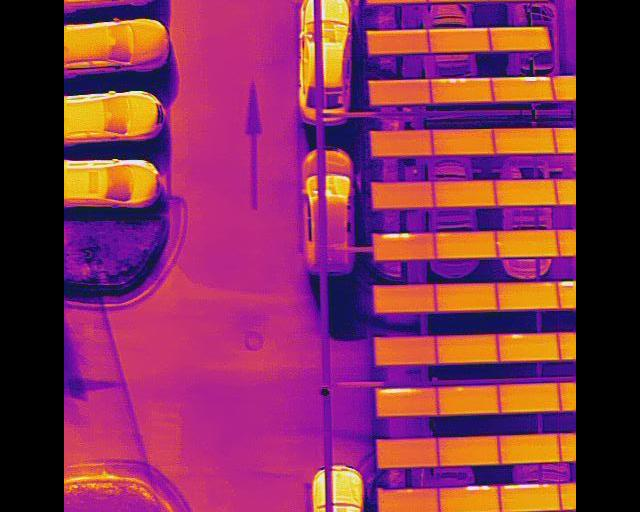Cell: (496, 334, 559, 362)
No-Anomaly: (374, 336, 436, 366), (435, 282, 498, 311), (377, 438, 437, 468), (438, 436, 500, 465), (499, 434, 561, 463), (374, 284, 436, 312), (436, 334, 498, 362), (437, 385, 499, 413), (499, 385, 560, 413), (496, 282, 559, 309), (433, 232, 498, 258), (371, 182, 433, 209), (372, 129, 433, 156), (433, 180, 496, 206), (496, 231, 559, 257), (425, 28, 492, 52), (494, 180, 558, 205), (433, 128, 494, 154), (493, 127, 554, 153), (367, 29, 430, 54), (368, 81, 431, 105), (379, 488, 438, 512), (488, 28, 550, 49)
Unclassified: (501, 483, 561, 511), (374, 233, 436, 260), (378, 388, 437, 416), (439, 485, 499, 512), (432, 78, 492, 103), (491, 77, 552, 101)
